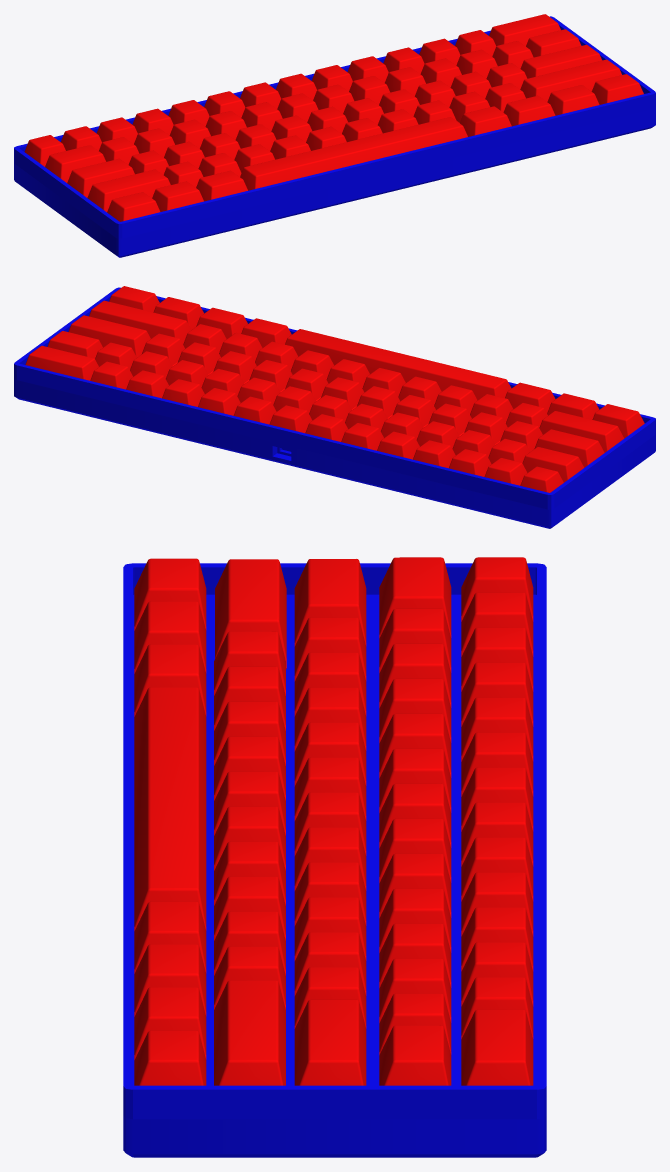
File: KeyboardExport1.fbx
The picture shows the model from 3 angles, top to bottom: view 1: azimuth 30°, elevation 25°; view 2: azimuth 150°, elevation 25°; view 3: azimuth 270°, elevation 25°; orthographic projection. The views are drawn at different scales.
Visible parts, largest first — view 1: Keycap, BackPlate; view 2: Keycap, BackPlate; view 3: Keycap, BackPlate.
Part boxes in pixels (<box>): Keycap: <box>24,14,643,221</box>; BackPlate: <box>14,16,655,257</box>; Keycap: <box>25,286,644,492</box>; BackPlate: <box>14,287,655,528</box>; Keycap: <box>134,557,533,1085</box>; BackPlate: <box>123,563,546,1157</box>.
Size of the model in its own units: 129 by 10.14 by 43.84.
